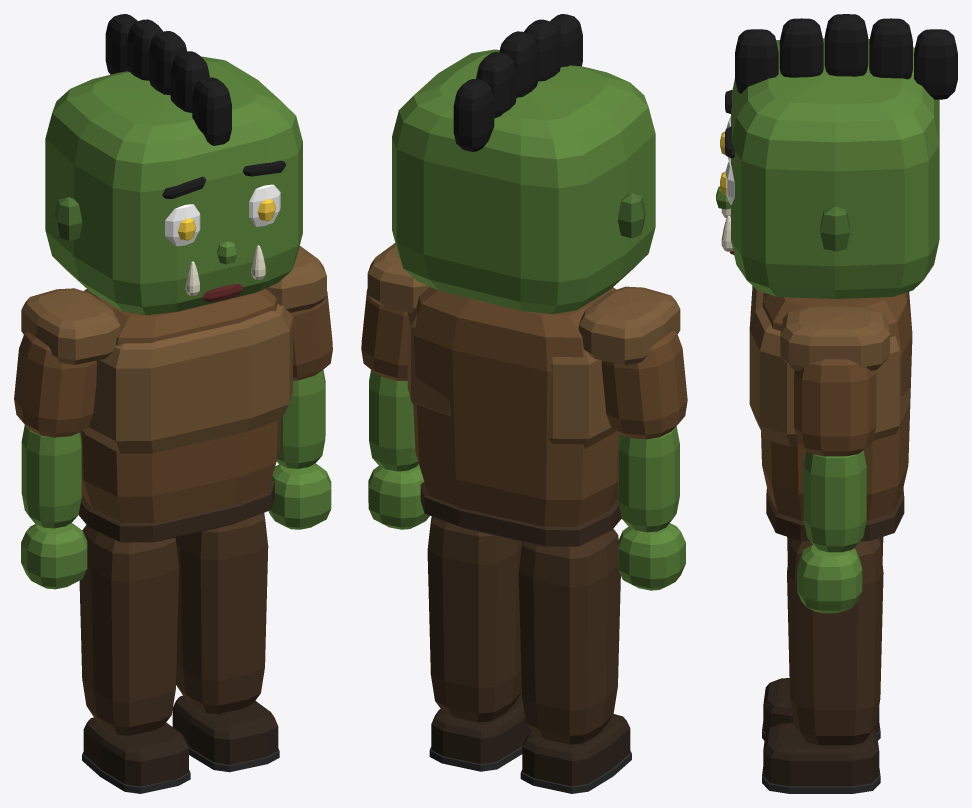
File: hero-o.glb
The picture shows the model from 3 angles, left to right: view 1: azimuth 30°, elevation 25°; view 2: azimuth 150°, elevation 25°; view 3: azimuth 270°, elevation 25°; orthographic projection. The views are drawn at different scales.
Visible parts, largest first — view 1: head, torso, leg-right, leg-left, arm-right, arm-left; view 2: head, torso, leg-right, leg-left, arm-right, arm-left; view 3: head, torso, leg-left, arm-left, leg-right.
Part boxes in pixels (left/top/right/bottom): head: left=45, top=14, right=302, bottom=315; torso: left=21, top=246, right=326, bottom=542; leg-right: left=79, top=525, right=190, bottom=793; leg-left: left=172, top=513, right=279, bottom=772; arm-right: left=14, top=331, right=96, bottom=589; arm-left: left=268, top=291, right=332, bottom=529; head: left=392, top=14, right=655, bottom=314; torso: left=367, top=243, right=680, bottom=546; leg-right: left=518, top=529, right=631, bottom=793; leg-left: left=427, top=516, right=531, bottom=771; arm-right: left=601, top=330, right=687, bottom=590; arm-left: left=361, top=289, right=429, bottom=529; head: left=716, top=14, right=957, bottom=298; torso: left=749, top=286, right=912, bottom=541; leg-left: left=762, top=538, right=883, bottom=793; arm-left: left=794, top=359, right=876, bottom=613; leg-right: left=762, top=536, right=883, bottom=740.
Bounding box in the file's own units: 1.29 × 2.91 × 0.864.
